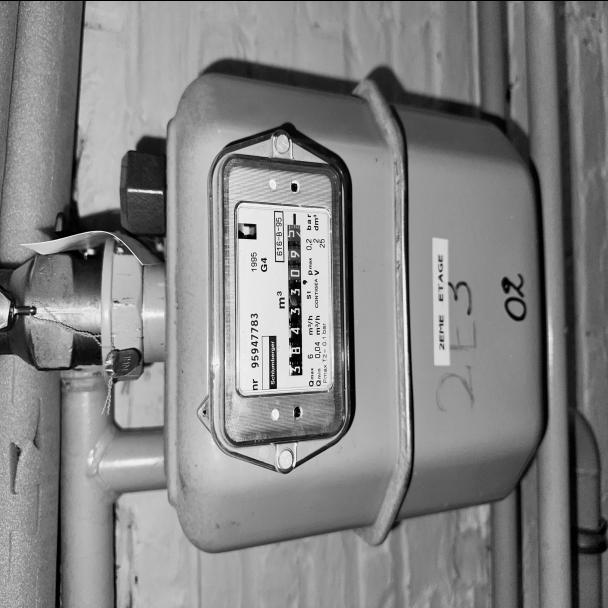0: (289, 264, 302, 278)
3: (290, 280, 301, 300), (290, 356, 302, 374), (290, 302, 302, 319)
4: (290, 319, 302, 340)
5: (289, 224, 301, 242)
8: (290, 342, 302, 356)
9: (288, 246, 300, 262)
cm: (288, 224, 302, 278)
counter: (290, 279, 302, 376)
